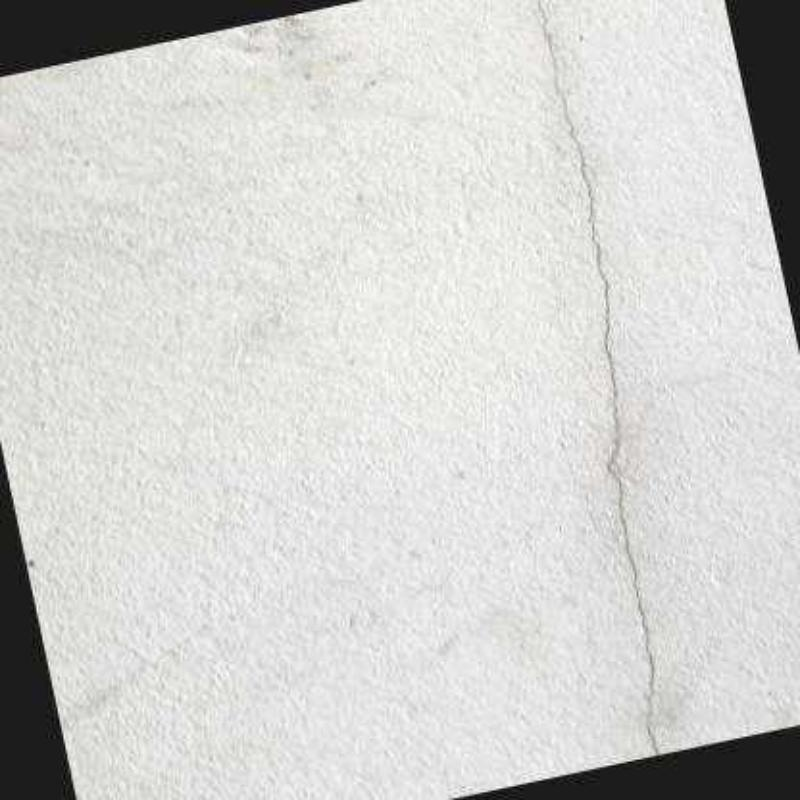crack: (538, 0, 659, 755)
